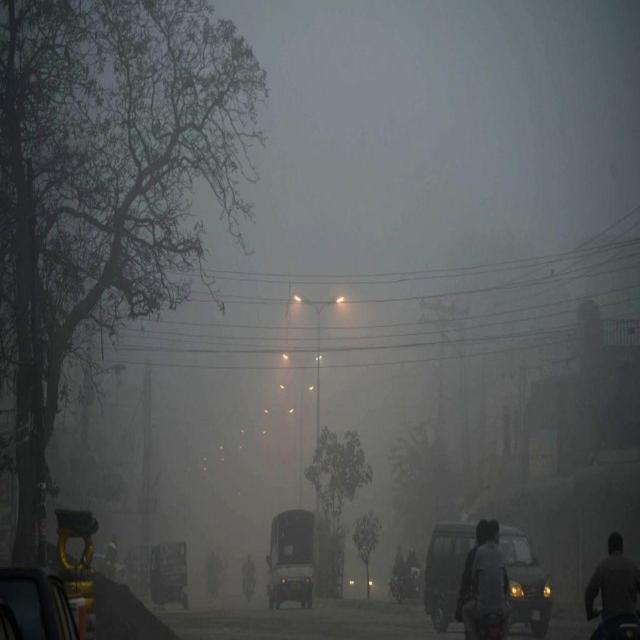Car: (88, 543, 133, 590)
Cycle: (580, 539, 640, 640), (456, 543, 510, 640), (408, 538, 427, 600), (204, 544, 223, 602), (243, 537, 259, 602), (391, 543, 408, 603)
Truck: (420, 516, 554, 640), (266, 498, 318, 614), (147, 525, 194, 614)
